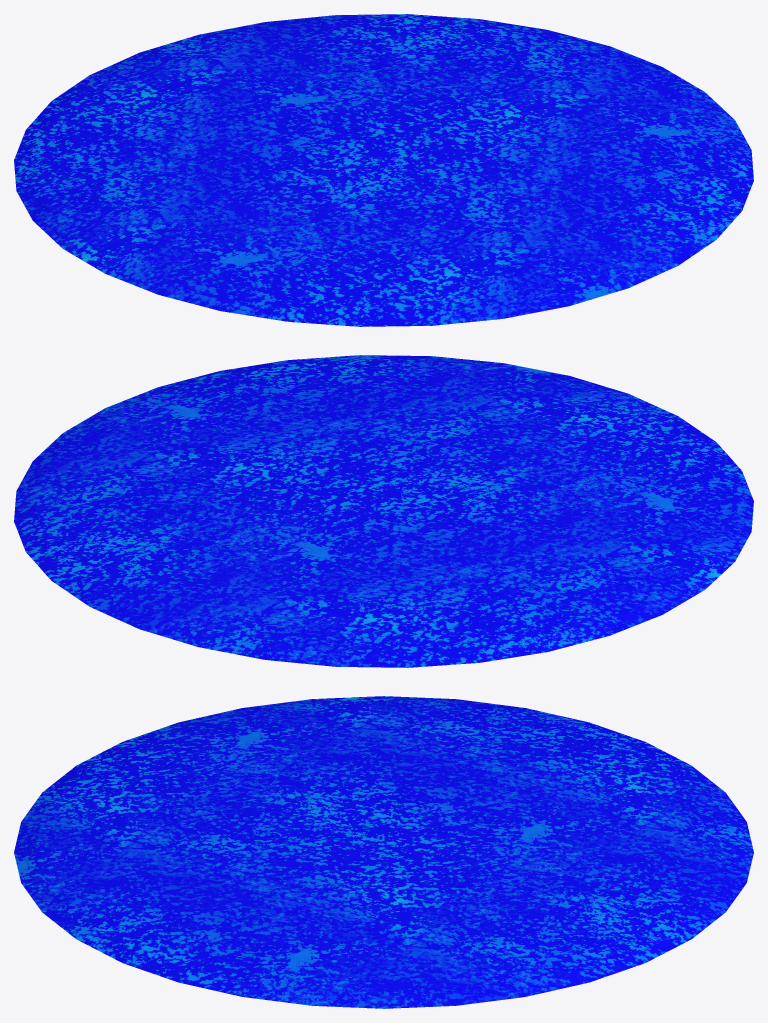
Rendered from blue_tile.glb.
3 renders of one model, top to bottom at view 1: azimuth 30°, elevation 25°; view 2: azimuth 150°, elevation 25°; view 3: azimuth 270°, elevation 25°, orthographic.
Visible parts, largest first — view 1: Sphere.005; view 2: Sphere.005; view 3: Sphere.005.
Part boxes in pixels (x1=…): Sphere.005: x1=14, y1=14, x2=753, y2=326; Sphere.005: x1=14, y1=355, x2=753, y2=667; Sphere.005: x1=14, y1=696, x2=753, y2=1008.
Bounding box in the file's own units: 10.52 × 0.2999 × 10.52.
1 material, 1 textured.
